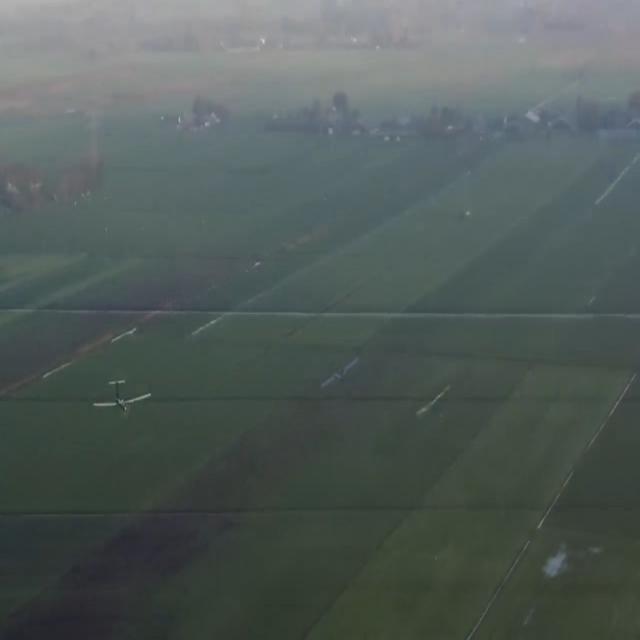iha: (27, 374, 88, 424)
